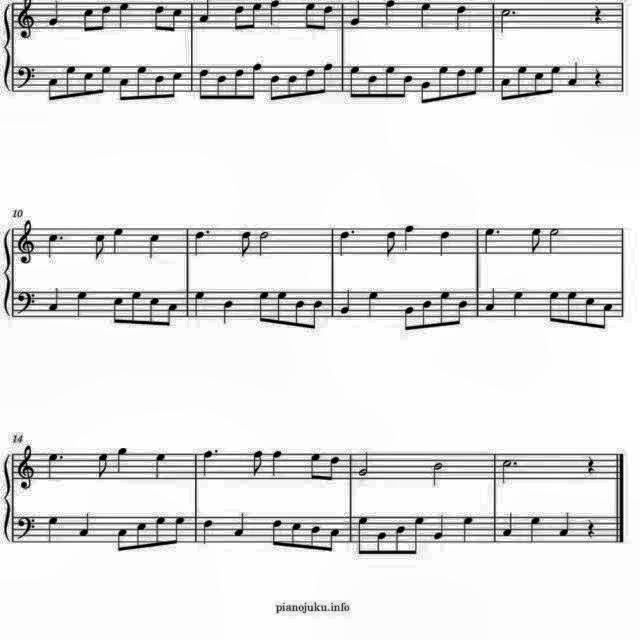Bass-clef: (14, 61, 38, 90), (14, 514, 38, 542), (14, 289, 38, 317)
Eighth-note: (409, 510, 429, 558), (356, 515, 372, 557), (438, 288, 454, 328), (274, 288, 290, 328), (134, 64, 150, 104), (436, 64, 452, 104), (564, 286, 580, 326), (248, 60, 264, 100), (128, 289, 144, 327), (546, 287, 562, 325), (382, 62, 398, 98), (470, 62, 486, 98), (582, 294, 598, 330), (270, 516, 286, 552), (514, 62, 530, 98), (198, 66, 214, 102), (392, 522, 408, 558), (346, 64, 362, 100), (256, 288, 272, 324), (320, 60, 336, 96), (63, 62, 79, 98), (89, 228, 107, 260), (150, 1, 167, 34), (145, 294, 161, 328), (154, 513, 170, 547), (110, 294, 126, 328), (98, 62, 114, 96), (288, 518, 304, 552), (232, 66, 248, 100), (44, 76, 62, 106), (248, 447, 266, 477), (527, 227, 545, 257), (94, 449, 112, 479), (598, 300, 616, 330), (382, 229, 400, 259), (237, 229, 255, 259), (290, 297, 306, 329), (78, 3, 94, 35), (232, 1, 248, 33), (170, 69, 186, 101), (418, 298, 434, 330), (548, 62, 564, 94), (306, 448, 322, 480), (172, 514, 188, 546), (320, 1, 336, 32), (302, 1, 318, 32), (98, 1, 114, 32), (134, 519, 150, 549), (308, 522, 324, 552), (326, 525, 342, 555), (267, 72, 283, 102), (248, 0, 264, 30), (402, 302, 418, 332), (454, 67, 468, 101), (304, 66, 318, 98), (83, 68, 97, 100), (150, 74, 166, 102), (418, 77, 434, 105), (114, 76, 130, 104), (400, 72, 416, 100), (326, 452, 340, 483), (531, 69, 545, 99), (375, 529, 389, 559), (170, 4, 184, 34), (284, 74, 300, 100), (116, 528, 132, 554), (214, 74, 228, 102), (455, 300, 469, 328), (498, 76, 512, 104), (166, 302, 182, 326), (364, 75, 378, 102), (311, 296, 325, 320)
Half-dot: (496, 456, 520, 488), (497, 6, 517, 36)
Half-note: (356, 451, 374, 481), (428, 459, 446, 487), (258, 228, 274, 258), (546, 226, 562, 256)
Quarter-dot: (482, 222, 504, 262), (337, 222, 359, 262), (198, 447, 222, 481), (46, 228, 70, 260), (192, 223, 212, 261), (46, 452, 68, 484)
Quarter-note: (144, 231, 164, 261), (510, 288, 528, 320), (402, 218, 418, 254), (72, 286, 90, 318), (363, 286, 381, 318), (452, 1, 470, 32), (416, 1, 434, 32), (459, 514, 476, 546), (153, 451, 171, 481), (437, 229, 455, 259), (75, 510, 93, 540), (232, 510, 250, 540), (338, 285, 356, 315), (189, 288, 207, 318), (526, 515, 544, 545), (555, 509, 573, 538), (44, 514, 60, 546), (200, 516, 217, 546), (381, 0, 399, 28), (44, 0, 62, 28), (219, 298, 237, 326), (112, 446, 130, 474), (116, 0, 132, 30), (500, 510, 516, 540), (46, 284, 62, 314), (110, 226, 126, 256), (270, 447, 286, 477), (347, 0, 364, 28), (268, 0, 284, 28), (484, 286, 500, 314), (432, 514, 448, 542), (564, 60, 580, 88), (197, 0, 214, 24)
Quarter-rest: (584, 516, 600, 540), (584, 452, 600, 476), (591, 65, 607, 89), (588, 2, 604, 26)
Treble-clef: (14, 220, 38, 268), (14, 444, 38, 492)
